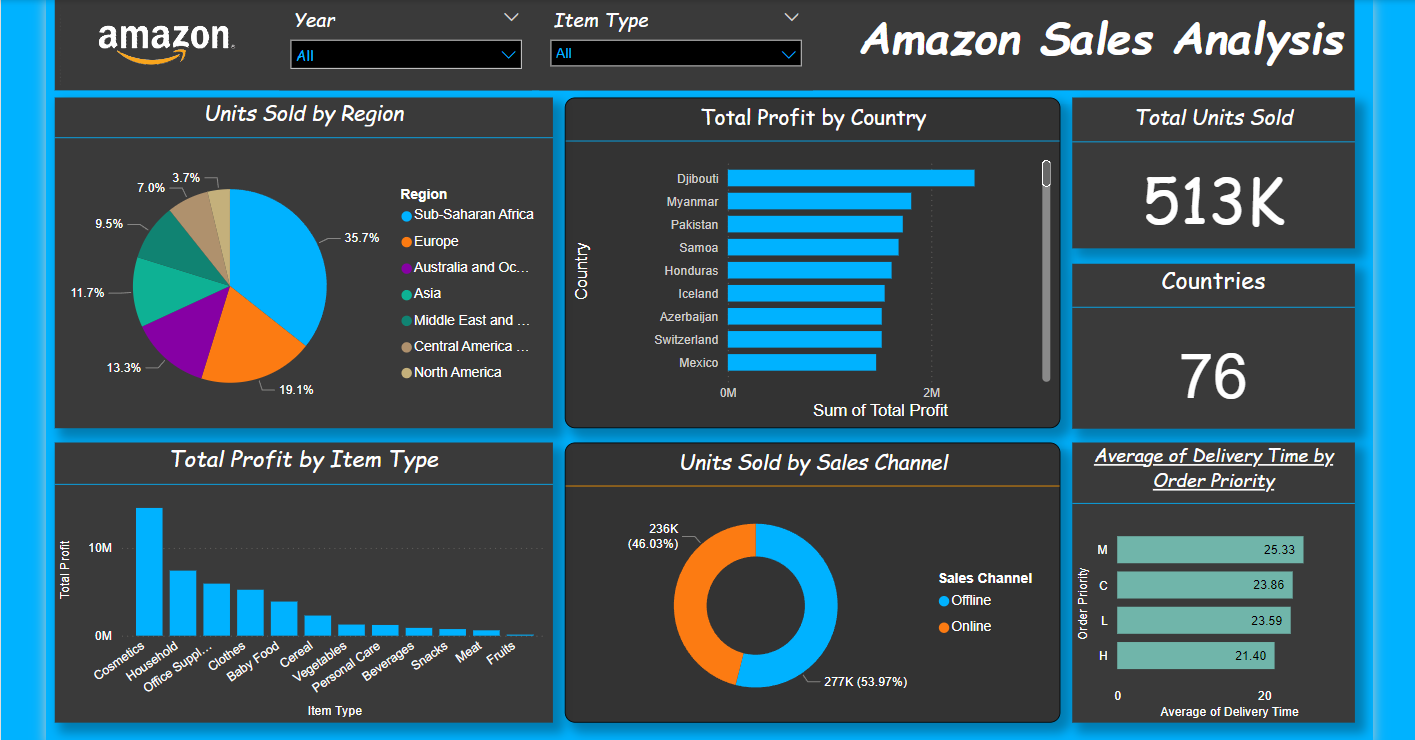

This screenshot's page, from the dashboard's own definition file:
{"tool":"powerbi","page":{"name":"Page 1","canvas":[1280,720],"ordinal":0},"visuals":[{"type":"donutChart","title":"Units Sold by Sales Channel","fields":{"Category":["Sales.Sales Channel"],"Y":["Sum(Sales.Units Sold)"]},"box":[500.1,426.8,478.1,270.2],"z":0},{"type":"clusteredBarChart","title":"Total Profit by Country","fields":{"Category":["Sales.Country"],"Y":["Sum(Sales.Total Profit)"]},"box":[500.1,94.2,478.1,319.2],"z":1000},{"type":"pieChart","title":"Units Sold by Region","fields":{"Category":["Sales.Region"],"Y":["Sum(Sales.Units Sold)"]},"box":[8.6,94.2,480.6,319.2],"z":2000},{"type":"card","title":"Total Units Sold","fields":{"Values":["Sum(Sales.Units Sold)"]},"box":[990.5,94.2,272.7,145.5],"z":3000},{"type":"card","title":"Countries","fields":{"Values":["Count(Sales.Country)"]},"box":[990.5,254.3,272.7,159],"z":4000},{"type":"columnChart","title":"Total Profit by Item Type","fields":{"Category":["Sales.Item Type"],"Y":["Sum(Sales.Total Profit)"]},"box":[8.6,426.8,480.6,270.2],"z":5000},{"type":"clusteredBarChart","fields":{"Category":["Sales.Order Priority"],"Y":["Avg(Sales.Delivery Time)"]},"box":[990.5,426.8,272.7,270.2],"z":6000},{"type":"textbox","box":[8.4,0,1254.7,86.9],"z":7000},{"type":"slicer","fields":{"Values":["Sales.Order Date.Variation.Date Hierarchy.Year"]},"box":[225,0,243.3,86.8],"z":8000},{"type":"slicer","fields":{"Values":["Sales.Item Type"]},"box":[476.9,0,262.9,86.8],"z":9000},{"type":"image","box":[8.4,0,209.9,86.9],"z":10000}]}

Visuals, with their boxes in screenshot pixels (x1, y1, x2, y2):
"Units Sold by Sales Channel" donutChart: 567/445/1069/729
"Total Profit by Country" clusteredBarChart: 567/95/1069/431
"Units Sold by Region" pieChart: 50/95/555/431
"Total Units Sold" card: 1082/95/1369/248
"Countries" card: 1082/264/1369/431
"Total Profit by Item Type" columnChart: 50/445/555/729
clusteredBarChart - Sales.Order Priority x Avg(Sales.Delivery Time): 1082/445/1369/729
textbox: 49/0/1369/88
slicer - Sales.Order Date.Variation.Date Hierarchy.Year: 277/0/533/88
slicer - Sales.Item Type: 542/0/819/88
image: 49/0/270/88
